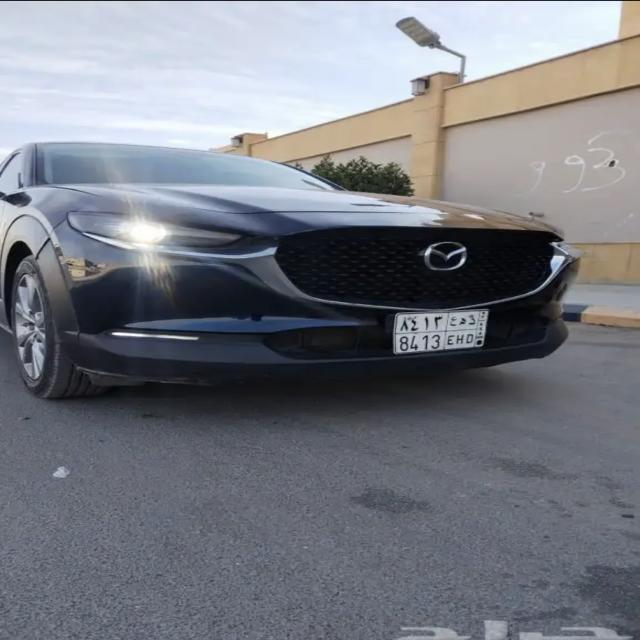license_plate: (396, 312, 488, 352)
